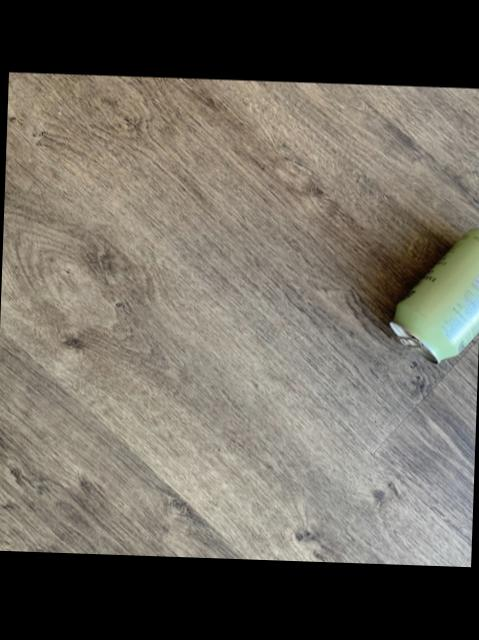metal: (387, 230, 479, 364)
